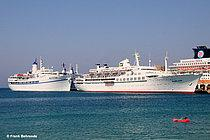Ship: (80, 65, 204, 96), (7, 62, 74, 94)
